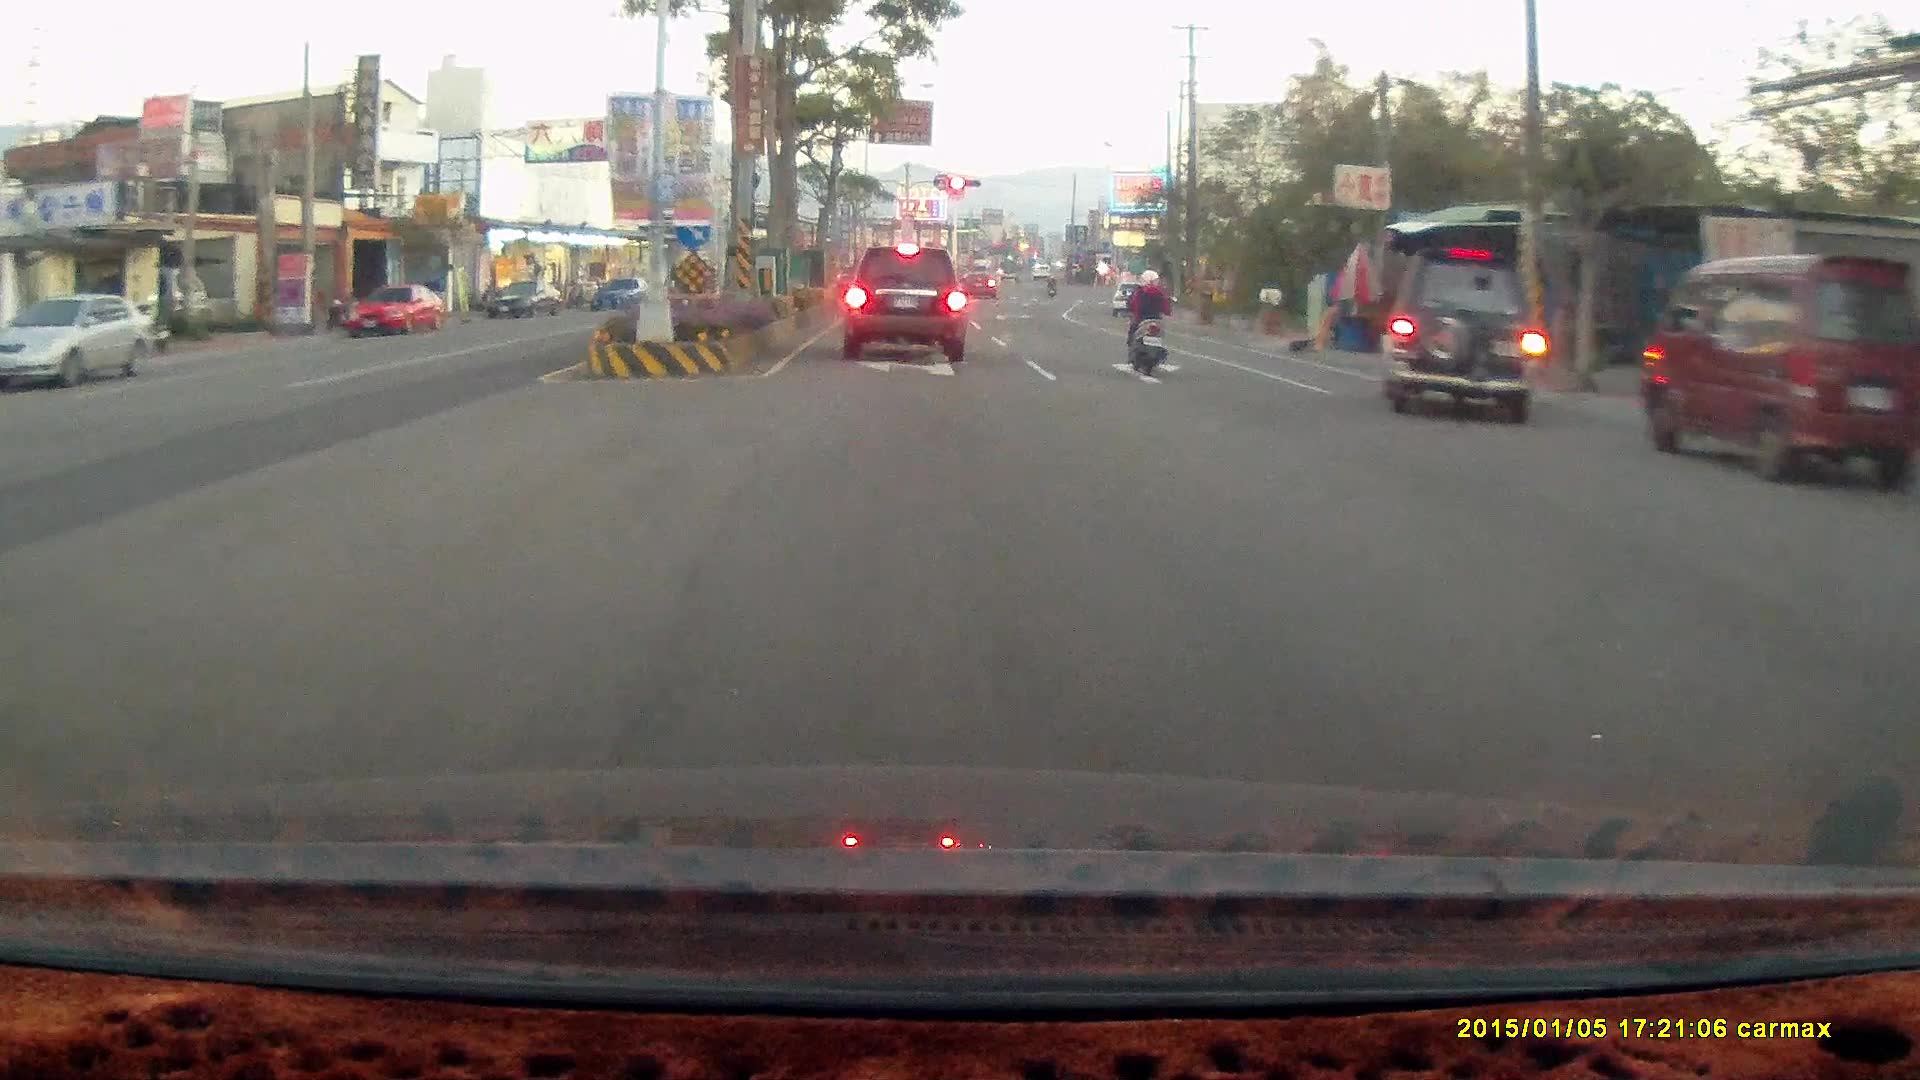rider: (1123, 266, 1173, 376)
vehicle: (1638, 251, 1911, 490), (1642, 260, 1905, 493), (1379, 254, 1550, 433), (1378, 248, 1543, 425), (1, 291, 164, 393), (0, 291, 159, 390), (841, 244, 966, 362), (1896, 493, 1920, 836), (1883, 528, 1920, 690), (347, 287, 451, 340), (347, 285, 443, 336), (1110, 284, 1159, 320)
